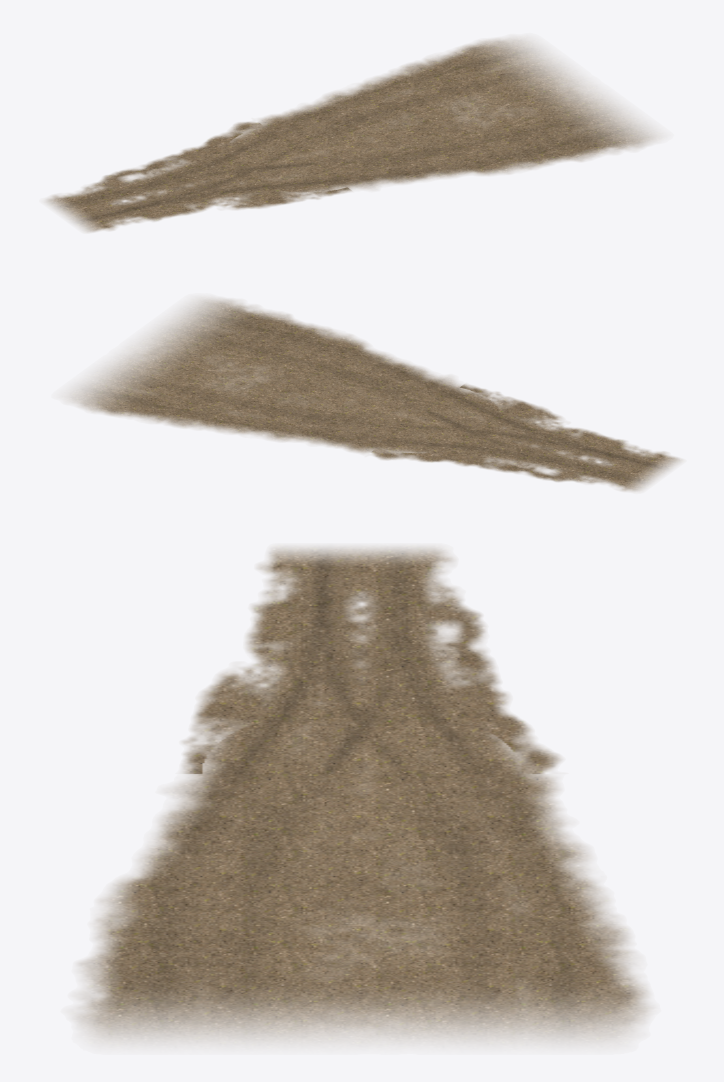
The model's file is road_line_main_drive.glb.
3 views of the same model, one above another, from view 1: azimuth 30°, elevation 25°; view 2: azimuth 150°, elevation 25°; view 3: azimuth 270°, elevation 25° (orthographic). The views are drawn at different scales.
Visible parts, largest first — view 1: road_line_main_drive; view 2: road_line_main_drive; view 3: road_line_main_drive.
Part boxes in pixels (box(x1,y1,x2,y2)): road_line_main_drive: box(45, 38, 658, 232); road_line_main_drive: box(68, 298, 681, 491); road_line_main_drive: box(75, 547, 650, 1042).
Size of the model in its own units: 23.5 by 0 by 13.
1 material, 1 textured.
